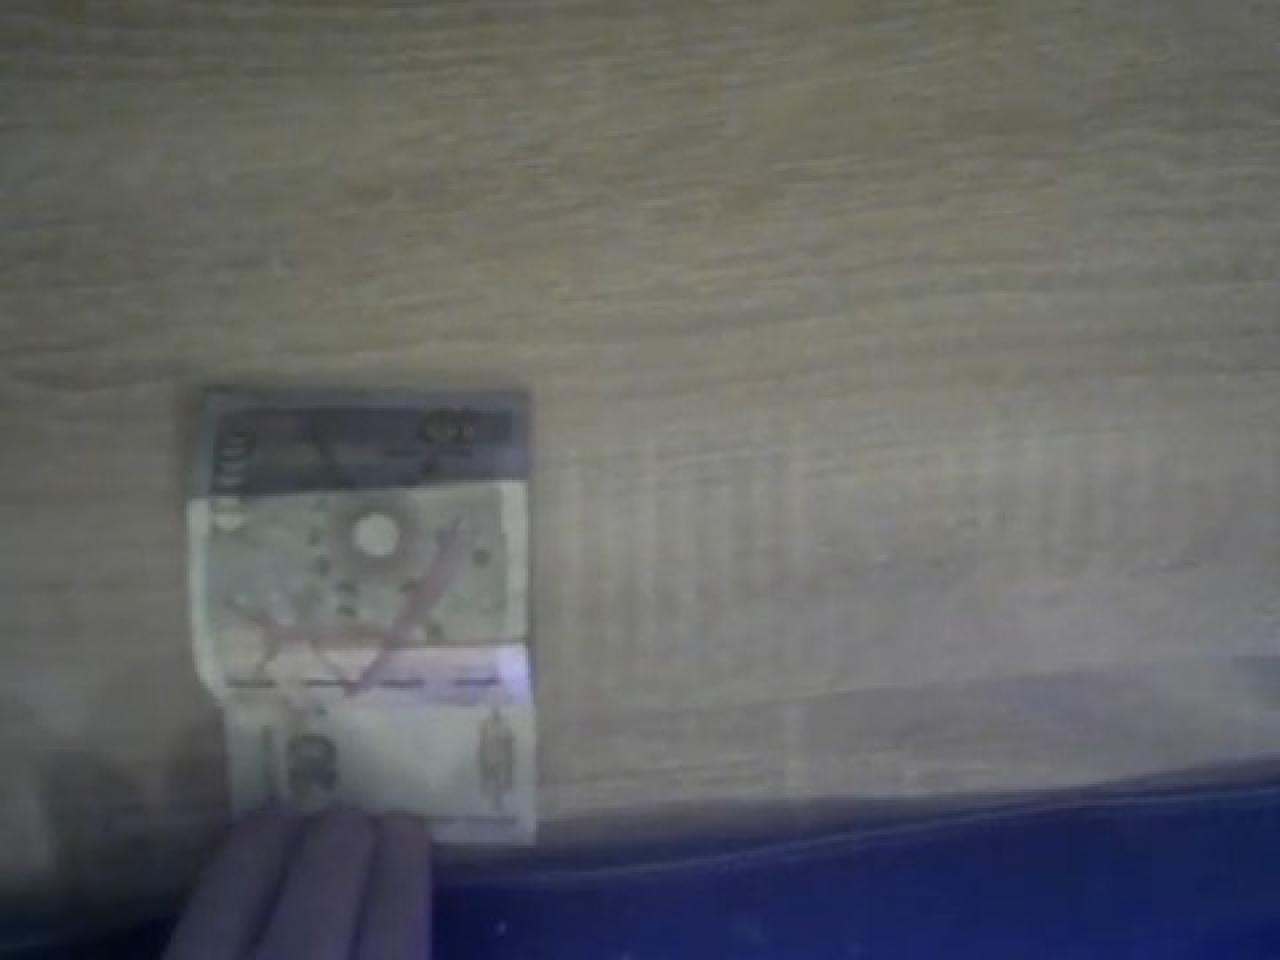10leva: (181, 386, 541, 843)
